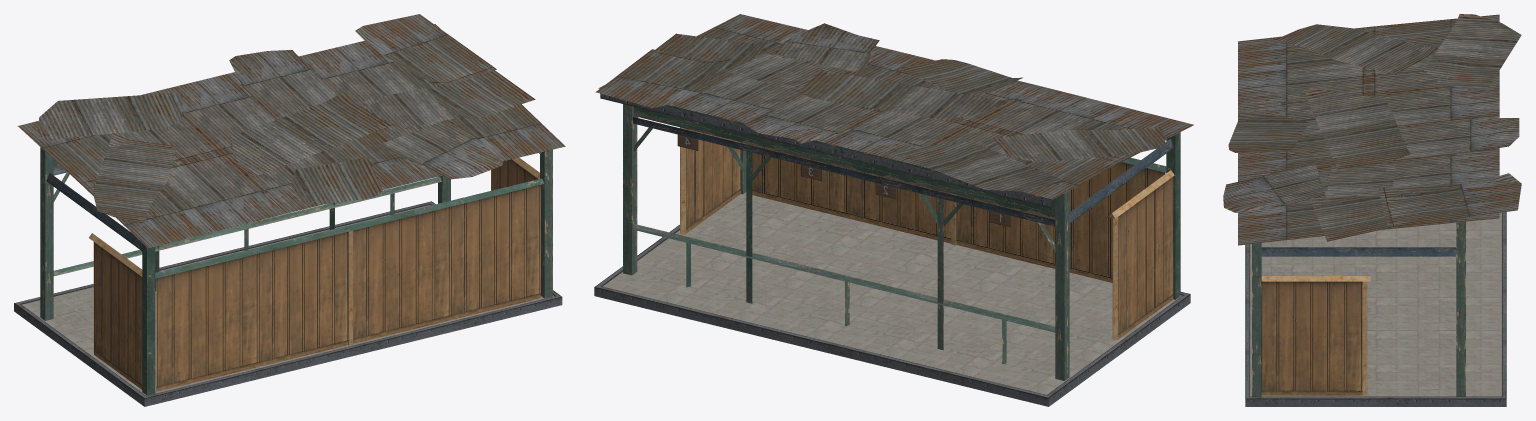
The model's file is Building_BcTz01_lod1.glb.
3 views of the same model, side by side, from view 1: azimuth 30°, elevation 25°; view 2: azimuth 150°, elevation 25°; view 3: azimuth 270°, elevation 25° (orthographic). The views are drawn at different scales.
Parts seen in each view (by area): view 1: xiutz_bc_tz_01_lod1_0; view 2: xiutz_bc_tz_01_lod1_0; view 3: xiutz_bc_tz_01_lod1_0.
Boxes of the visible parts, x1=… form: xiutz_bc_tz_01_lod1_0: x1=14, y1=14, x2=565, y2=406; xiutz_bc_tz_01_lod1_0: x1=594, y1=14, x2=1193, y2=406; xiutz_bc_tz_01_lod1_0: x1=1223, y1=14, x2=1521, y2=406.
Bounding box in the file's own units: 14.01 × 5.93 × 8.15.
Materials: 2 (2 with a texture image).
